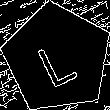L_NW: (32, 28, 83, 88)
